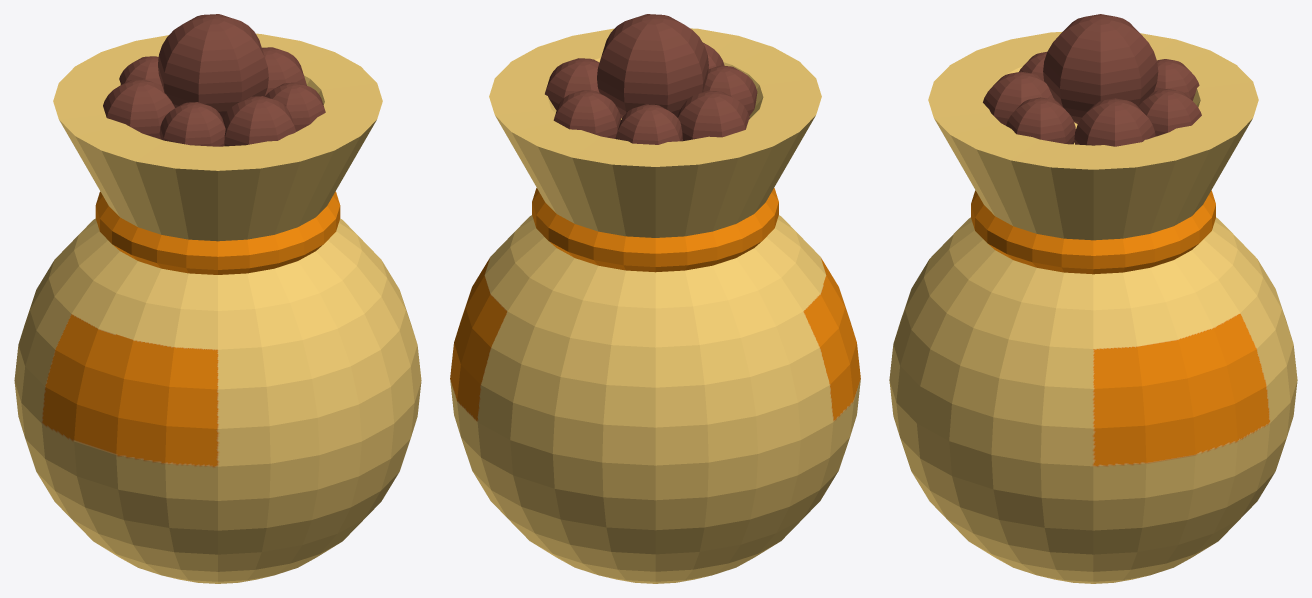
File: Semillas.fbx
3 views of the same model, side by side, from view 1: azimuth 30°, elevation 25°; view 2: azimuth 150°, elevation 25°; view 3: azimuth 270°, elevation 25° (orthographic).
Parts seen in each view (by area): view 1: Sphere; view 2: Sphere; view 3: Sphere.
Boxes of the visible parts, x1=… form: Sphere: x1=14, y1=14, x2=421, y2=583; Sphere: x1=450, y1=14, x2=860, y2=583; Sphere: x1=889, y1=14, x2=1297, y2=583.
Bounding box in the file's own units: 200 × 295 × 200.
